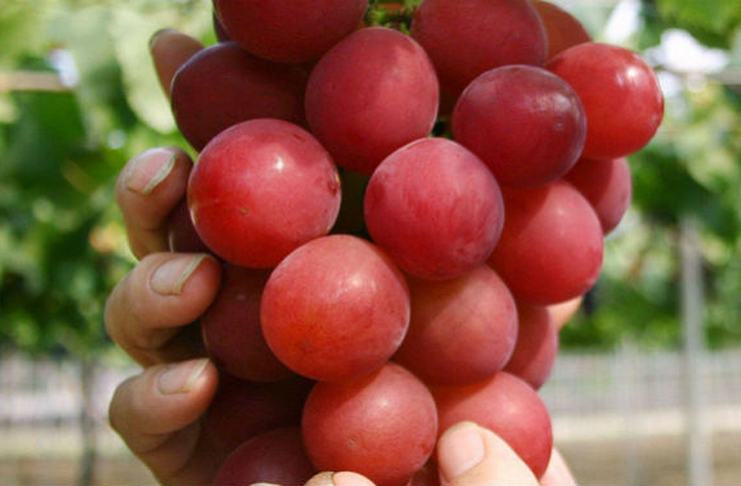Red Grapes: (206, 12, 574, 444)
